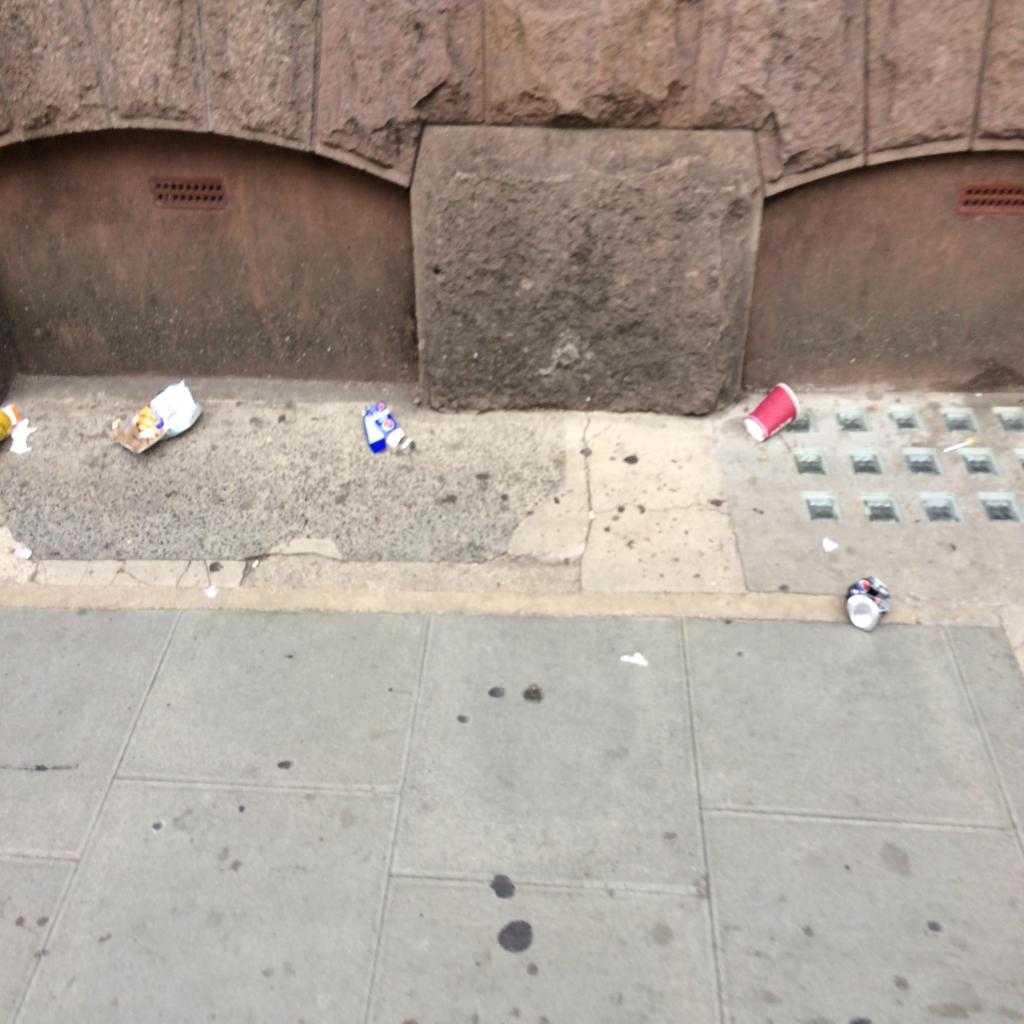Drink can: (846, 576, 891, 630)
Paper cup: (744, 383, 798, 441)
Unlabeled litter: (363, 400, 405, 454), (10, 418, 36, 454), (0, 403, 22, 443)
